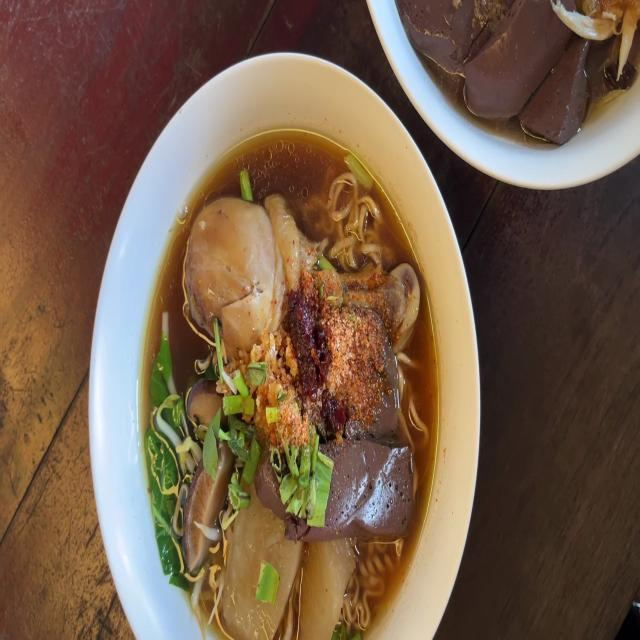noodle: (394, 0, 602, 145), (322, 447, 412, 540)
